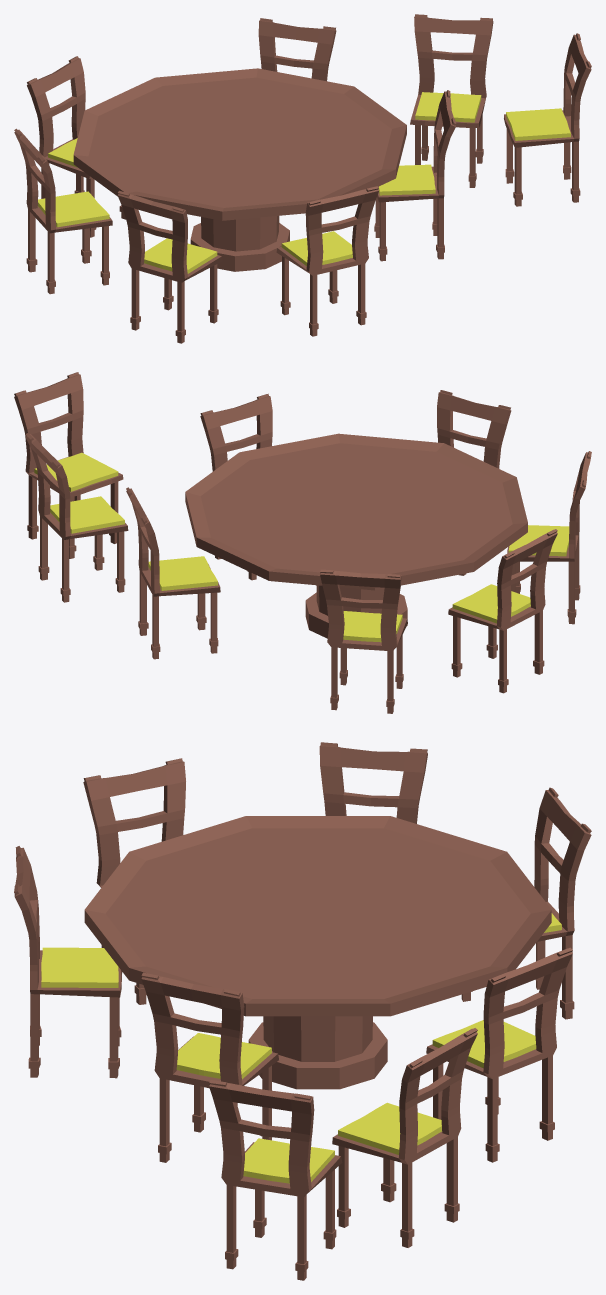
Rendered from table3.fbx.
The picture shows the model from 3 angles, top to bottom: view 1: azimuth 30°, elevation 25°; view 2: azimuth 150°, elevation 25°; view 3: azimuth 270°, elevation 25°; orthographic projection. The views are drawn at different scales.
Visible parts, largest first — view 1: table.003, chair.010, chair.014, chair.015, chair.009, chair.016, chair.011, chair.012, chair.013; view 2: table.003, chair.012, chair.009, chair.016, chair.015, chair.013, chair.014, chair.010, chair.011; view 3: table.003, chair.016, chair.015, chair.011, chair.013, chair.010, chair.014, chair.012, chair.009.
Boxes of the visible parts, x1,y1,x2,y2 form: table.003: (73, 68, 406, 271); chair.010: (276, 186, 378, 336); chair.014: (117, 190, 222, 343); chair.015: (410, 14, 493, 187); chair.009: (14, 128, 112, 294); chair.016: (504, 33, 591, 206); chair.011: (374, 90, 456, 261); chair.012: (27, 56, 125, 237); chair.013: (258, 18, 336, 81); table.003: (185, 433, 527, 638); chair.012: (320, 569, 407, 713); chair.009: (448, 529, 557, 693); chair.016: (14, 372, 123, 558); chair.015: (25, 433, 128, 602); chair.013: (126, 487, 220, 659); chair.014: (507, 451, 591, 624); chair.010: (437, 390, 511, 575); chair.011: (200, 393, 272, 580); table.003: (84, 816, 551, 1089); chair.016: (209, 1080, 342, 1280); chair.015: (332, 1028, 477, 1247); chair.011: (141, 972, 278, 1162); chair.013: (426, 947, 572, 1162); chair.010: (14, 846, 122, 1078); chair.014: (83, 758, 185, 1004); chair.012: (461, 787, 591, 1019); chair.009: (319, 742, 427, 823).
Bounding box in the file's own units: 3.61 × 0.9045 × 2.47.
